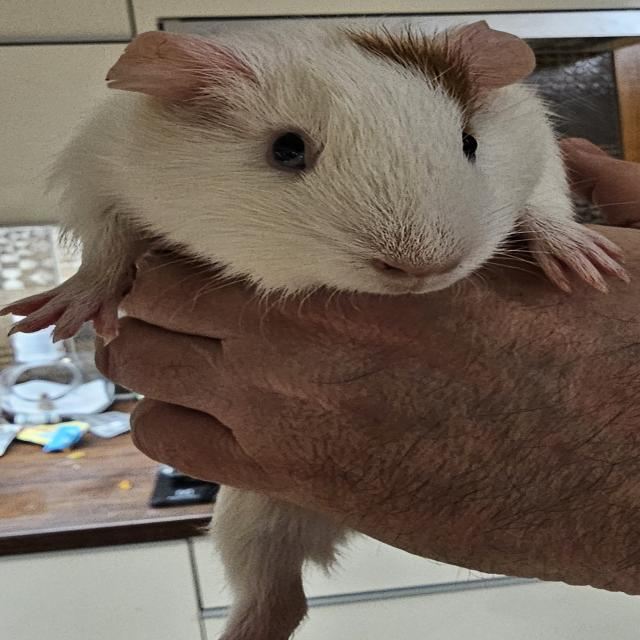guinea pig: (0, 18, 634, 350)
